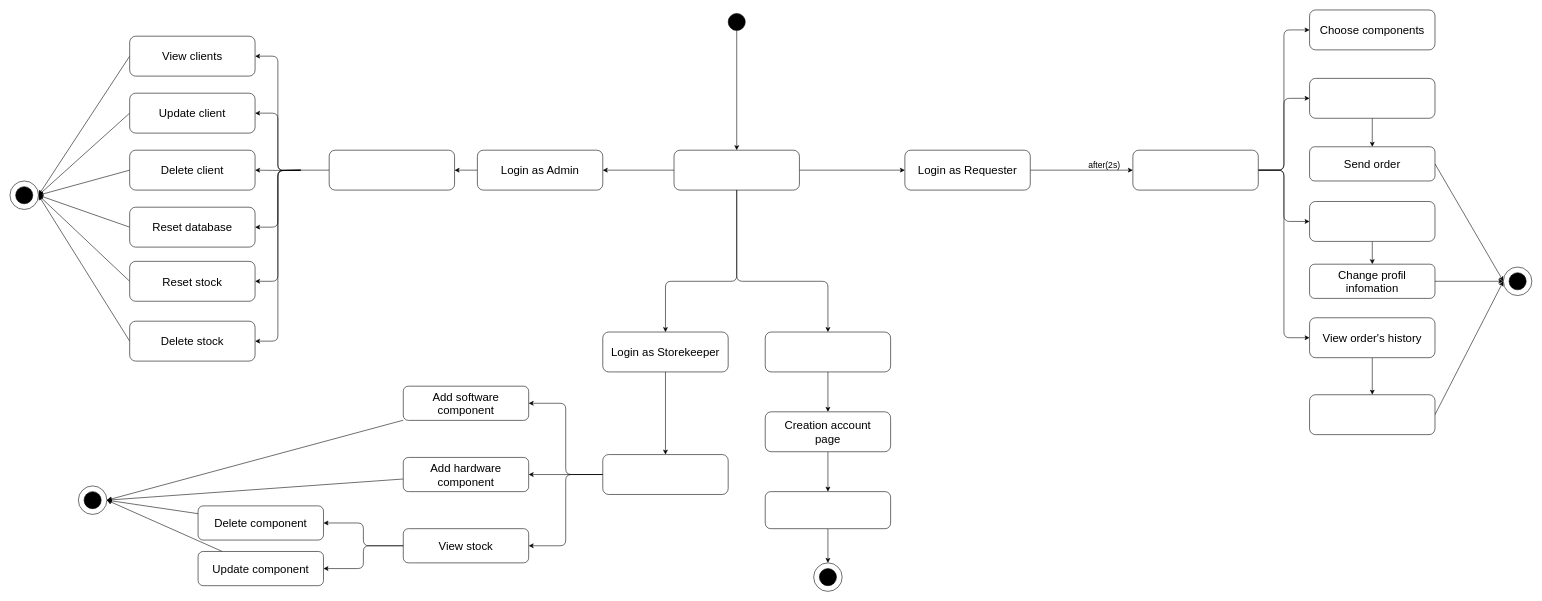
Some shapes in this 1542 by 601 pixel diagram are drawn without their labels. Each missing label, with the centre of its shape:
"Admin page" goes at (x=392, y=170).
"Create account" goes at (x=828, y=351).
"Delete order" goes at (x=1372, y=414).
"Go to cart" goes at (x=1372, y=98).
"Go to settings" goes at (x=1372, y=221).
"Main page" goes at (x=736, y=170).
"Send request to the Admin" goes at (x=828, y=510).
"Shopping page" goes at (x=1195, y=170).
"Storekeeper page" goes at (x=665, y=474).
